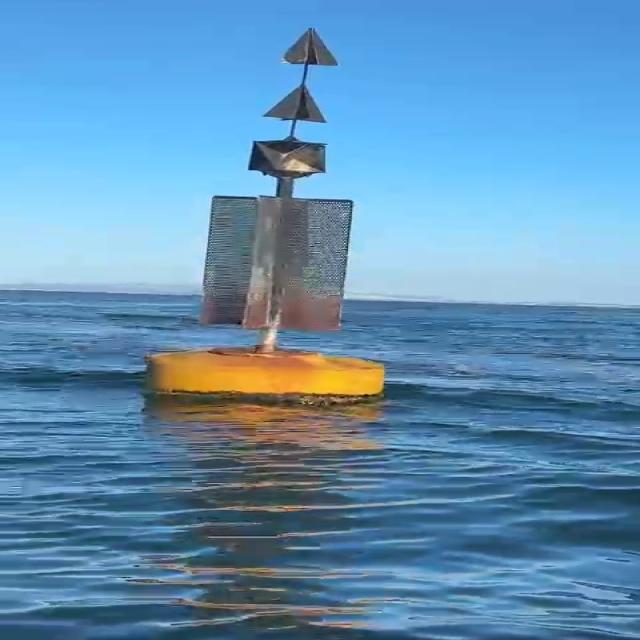marque: (148, 26, 390, 397)
